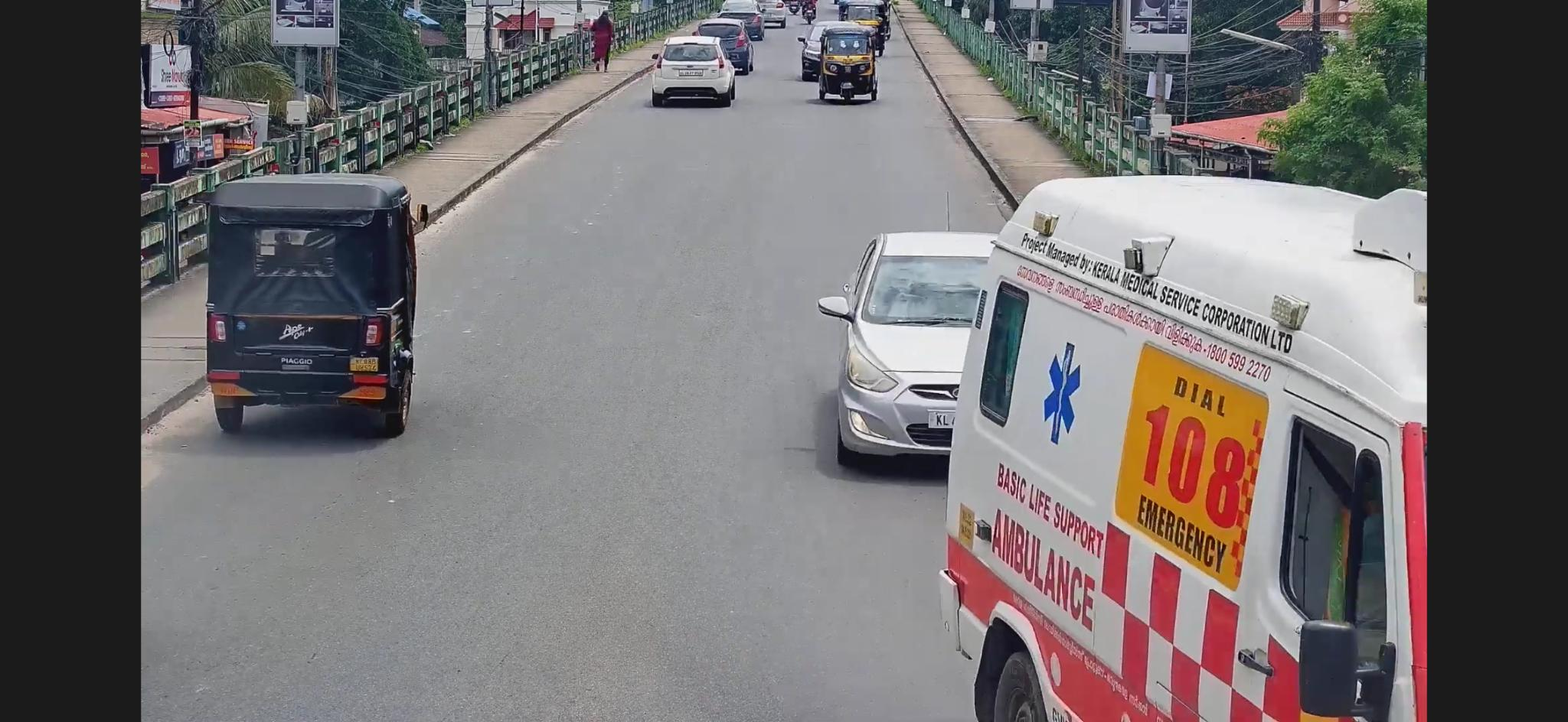ambulance: (937, 167, 1431, 722)
